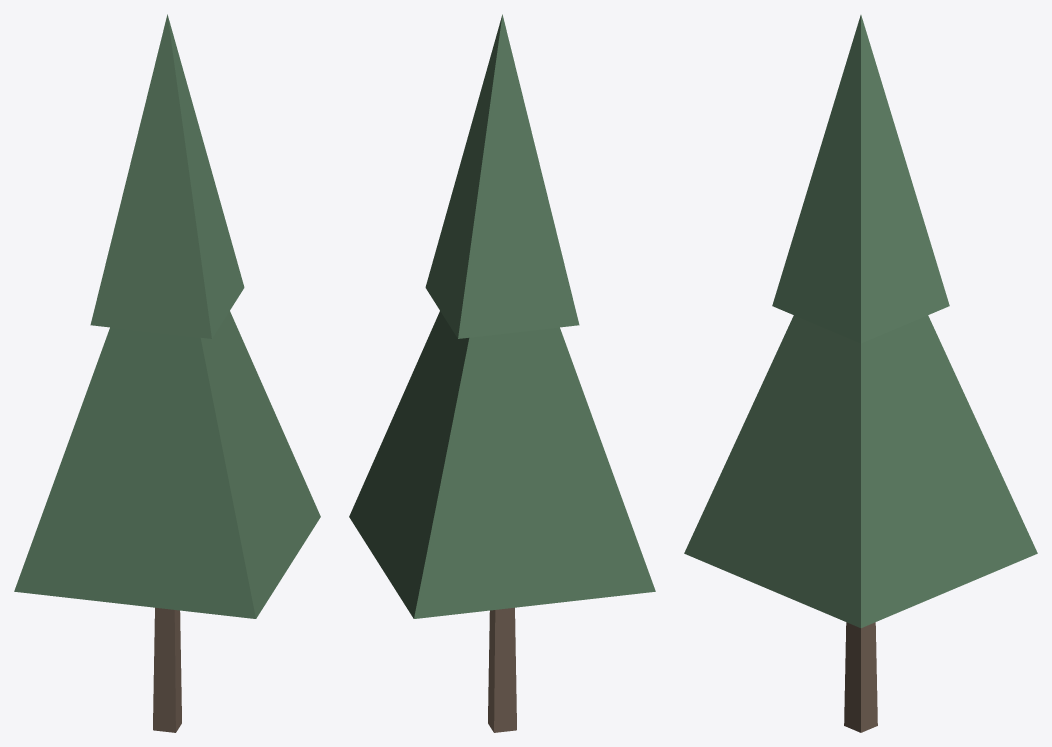
The model's file is env_tree_pine_a_lod2.glb.
3 renders of one model, left to right at view 1: azimuth 30°, elevation 25°; view 2: azimuth 150°, elevation 25°; view 3: azimuth 270°, elevation 25°, orthographic.
Parts seen in each view (by area): view 1: pine_0; view 2: pine_0; view 3: pine_0.
Part boxes in pixels (x1=…): pine_0: x1=14, y1=14, x2=320, y2=732; pine_0: x1=349, y1=14, x2=655, y2=732; pine_0: x1=684, y1=15, x2=1037, y2=732.
Size of the model in its own units: 5.08 by 11.28 by 5.08.
